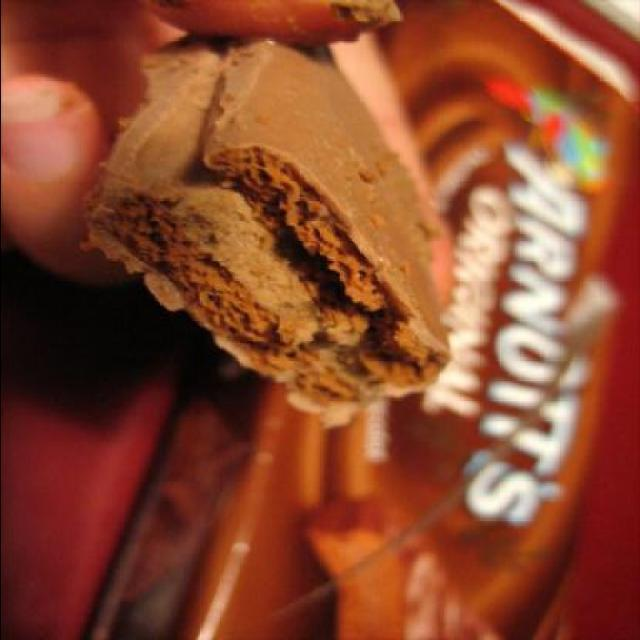Chocolate bar packaged: (82, 31, 458, 429)
